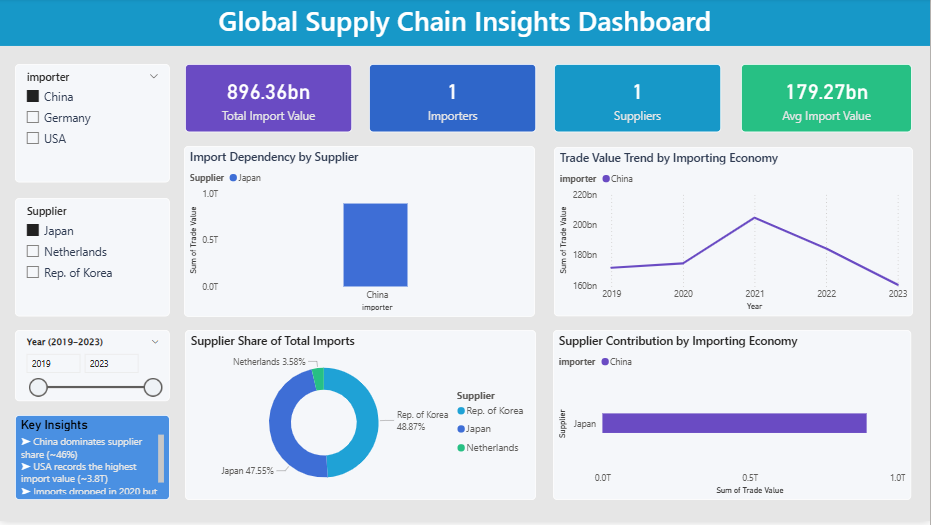

The page's visual inventory and layout, read from the dashboard file:
{"tool":"powerbi","page":{"name":"Page 1","canvas":[1280,720],"ordinal":0},"visuals":[{"type":"clusteredBarChart","title":"Supplier Contribution by Importing Economy","fields":{"Category":["Sheet1.Supplier"],"Y":["Sum(Sheet1.Trade Value)"],"Series":["Sheet1.importer"]},"box":[761.1,456.9,492.7,234],"z":0},{"type":"lineChart","title":"Trade Value Trend by Importing Economy","fields":{"Category":["Sheet1.Year"],"Y":["Sum(Sheet1.Trade Value)"],"Series":["Sheet1.importer"]},"box":[762.5,205.1,494.1,232.6],"z":1000},{"type":"donutChart","title":"Supplier Share of Total Imports","fields":{"Category":["Sheet1.Supplier"],"Y":["Sum(Sheet1.Trade Value)"]},"box":[254.6,456.9,483.1,234],"z":2000},{"type":"lineStackedColumnComboChart","title":"Import Dependency by Supplier","fields":{"Category":["Sheet1.importer"],"Y":["Sum(Sheet1.Trade Value)"],"Series":["Sheet1.Supplier"]},"box":[253.2,203.7,483.1,235.4],"z":3000},{"type":"slicer","fields":{"Values":["Sheet1.importer"]},"box":[21.2,91.2,212.5,162.5],"z":4000},{"type":"slicer","fields":{"Values":["Sheet1.Supplier"]},"box":[21.2,275,212.5,162.5],"z":5000},{"type":"slicer","fields":{"Values":["Sheet1.Year"]},"box":[20.6,456.9,213.3,97.7],"z":6000},{"type":"card","fields":{"Values":["Sum(Sheet1.Trade Value)"]},"box":[254.6,90.8,229.8,93.6],"z":7000},{"type":"card","fields":{"Values":["Sheet1.Avg Import Value"]},"box":[1019.9,90.8,235.4,93.6],"z":8000},{"type":"card","fields":{"Values":["Sheet1.Suppliers"]},"box":[762.5,90.8,229.8,93.6],"z":9000},{"type":"card","fields":{"Values":["Sheet1.Importers"]},"box":[507.9,90.8,229.8,93.6],"z":10000},{"type":"textbox","box":[0,0,1280,66.1],"z":11000},{"type":"textbox","title":"Key Insights","box":[20.6,573.9,213.3,117],"z":12000}]}

Visuals, with their boxes in screenshot pixels (x1, y1, x2, y2), scaled from the page's 1280x720 canvas onto the 931x525 screenshot:
"Supplier Contribution by Importing Economy" clusteredBarChart: box(554, 333, 912, 504)
"Trade Value Trend by Importing Economy" lineChart: box(555, 150, 914, 319)
"Supplier Share of Total Imports" donutChart: box(185, 333, 537, 504)
"Import Dependency by Supplier" lineStackedColumnComboChart: box(184, 149, 536, 320)
slicer - Sheet1.importer: box(15, 66, 170, 185)
slicer - Sheet1.Supplier: box(15, 201, 170, 319)
slicer - Sheet1.Year: box(15, 333, 170, 404)
card - Sum(Sheet1.Trade Value): box(185, 66, 352, 134)
card - Sheet1.Avg Import Value: box(742, 66, 913, 134)
card - Sheet1.Suppliers: box(555, 66, 722, 134)
card - Sheet1.Importers: box(369, 66, 537, 134)
textbox: box(0, 0, 930, 48)
"Key Insights" textbox: box(15, 418, 170, 504)
